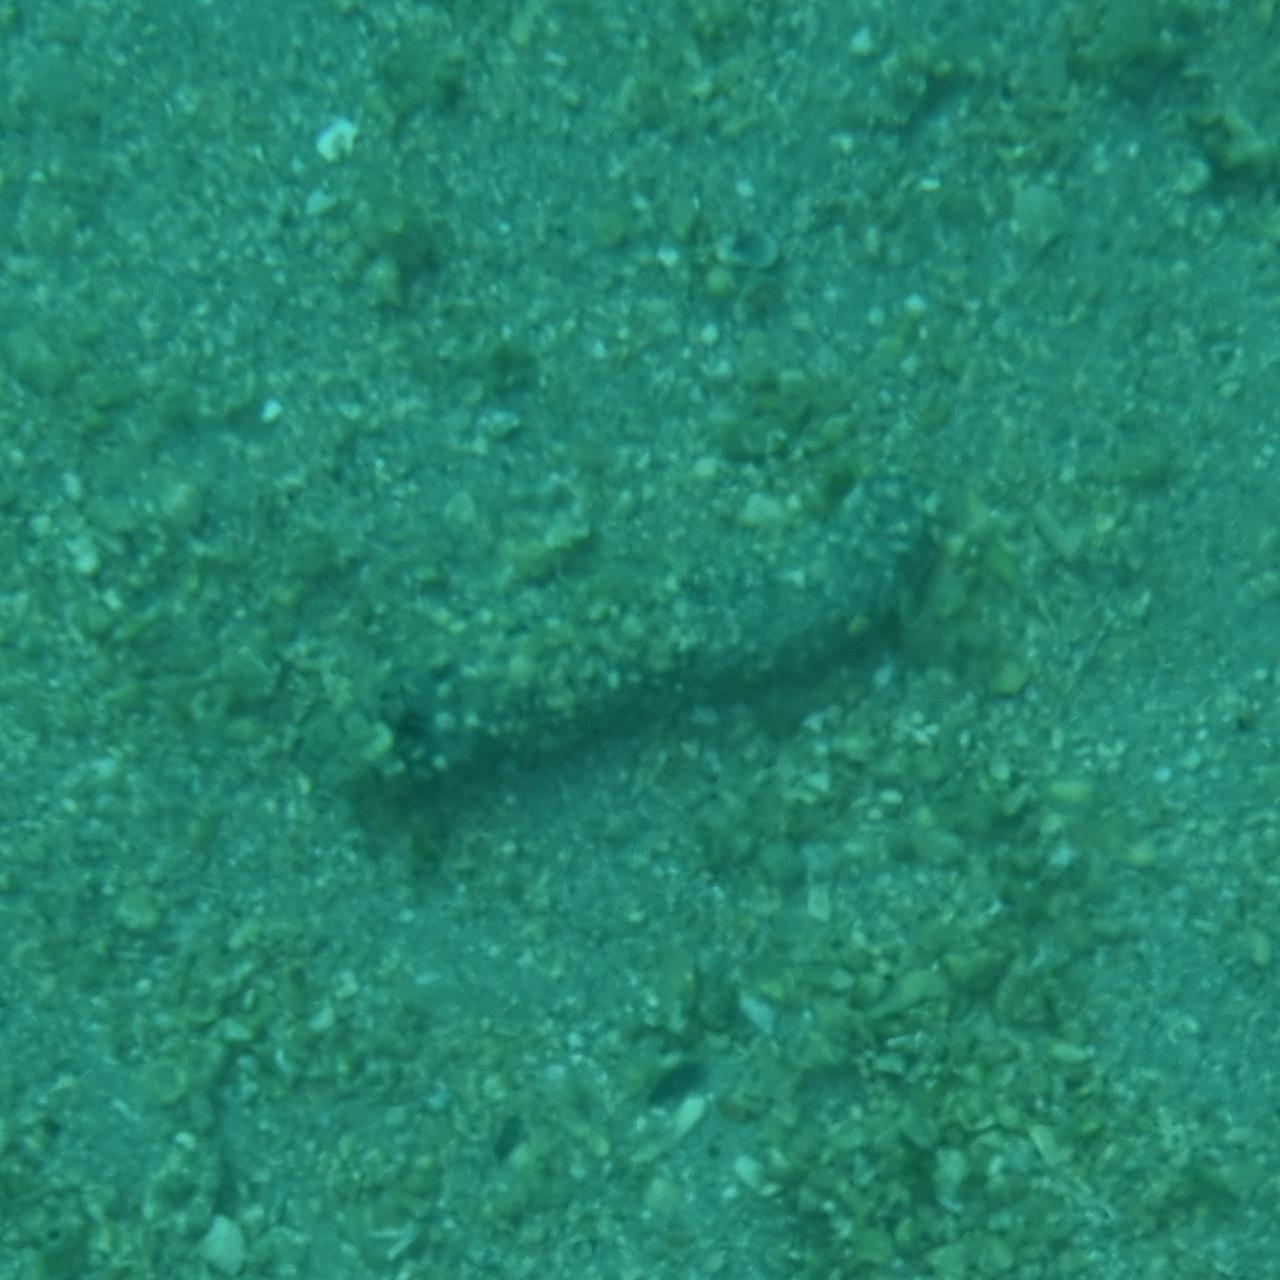Holothuria tubulosa: (312, 450, 968, 830)
